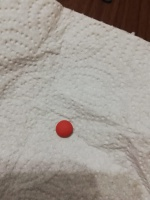Dolorex: (55, 119, 74, 139)
